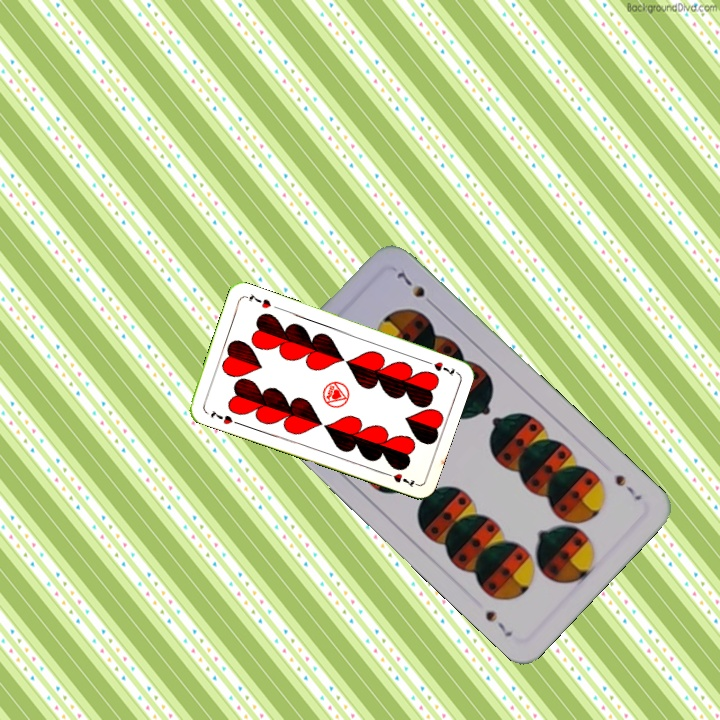H7: (420, 356, 459, 378), (206, 406, 235, 427)
S7: (611, 470, 645, 503)
